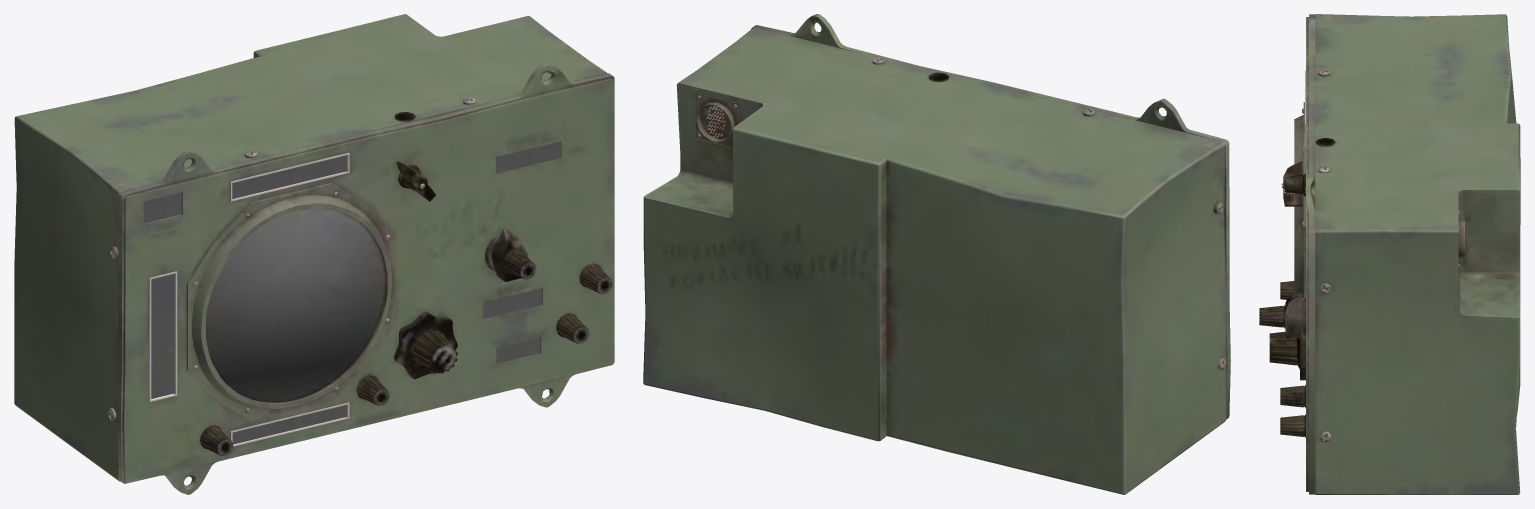
File: vintage_spacecraft_instrument.0e0345d2.glb
3 renders of one model, left to right at view 1: azimuth 30°, elevation 25°; view 2: azimuth 150°, elevation 25°; view 3: azimuth 270°, elevation 25°, orthographic. The views are drawn at different scales.
Visible parts, largest first — view 1: vintage_spacecraft_instrument; view 2: vintage_spacecraft_instrument; view 3: vintage_spacecraft_instrument.
Boxes of the visible parts, x1=… form: vintage_spacecraft_instrument: x1=14, y1=14, x2=614, y2=494; vintage_spacecraft_instrument: x1=643, y1=14, x2=1230, y2=494; vintage_spacecraft_instrument: x1=1259, y1=14, x2=1520, y2=494.
Size of the model in its own units: 0.95 by 0.6235 by 0.4733.
Materials: 2 (2 with a texture image).
